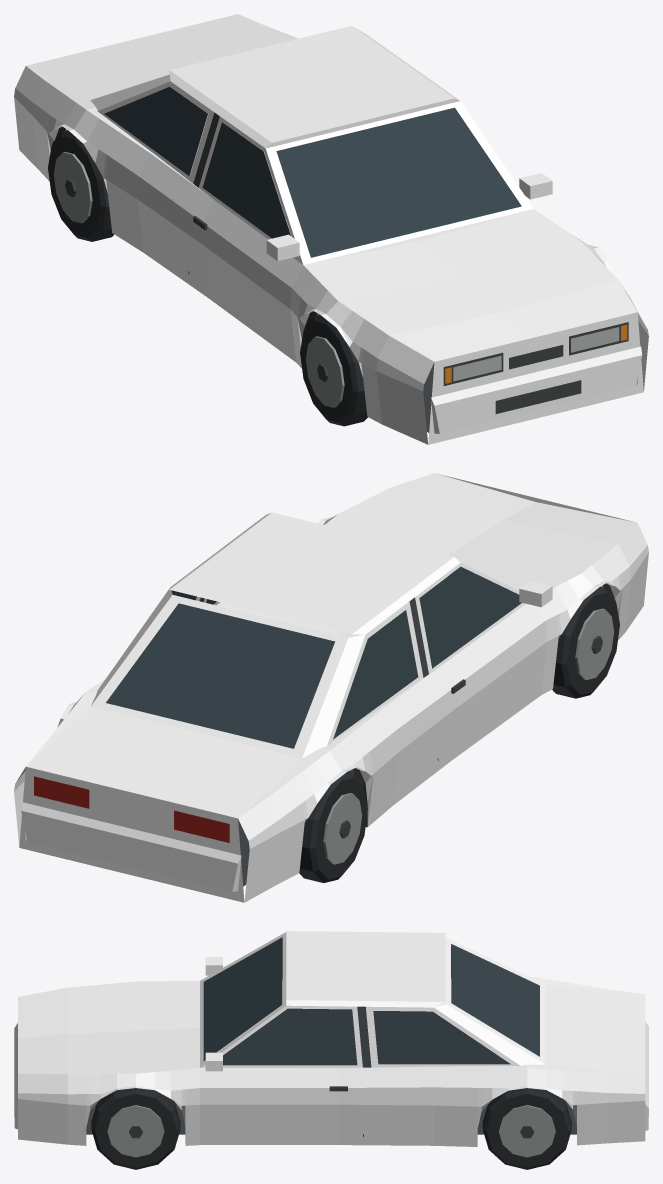
File: rauhe_fink_gts.glb
3 renders of one model, top to bottom at view 1: azimuth 30°, elevation 25°; view 2: azimuth 150°, elevation 25°; view 3: azimuth 270°, elevation 25°, orthographic. The views are drawn at different scales.
Parts seen in each view (by area): view 1: rauhe_fink_gts; view 2: rauhe_fink_gts; view 3: rauhe_fink_gts.
Part boxes in pixels (<box>): rauhe_fink_gts: <box>14,14,648,444</box>; rauhe_fink_gts: <box>14,473,648,902</box>; rauhe_fink_gts: <box>14,931,648,1169</box>.
Bounding box in the file's own units: 1.75 × 1.2 × 4.46.
8 materials, 1 textured.
